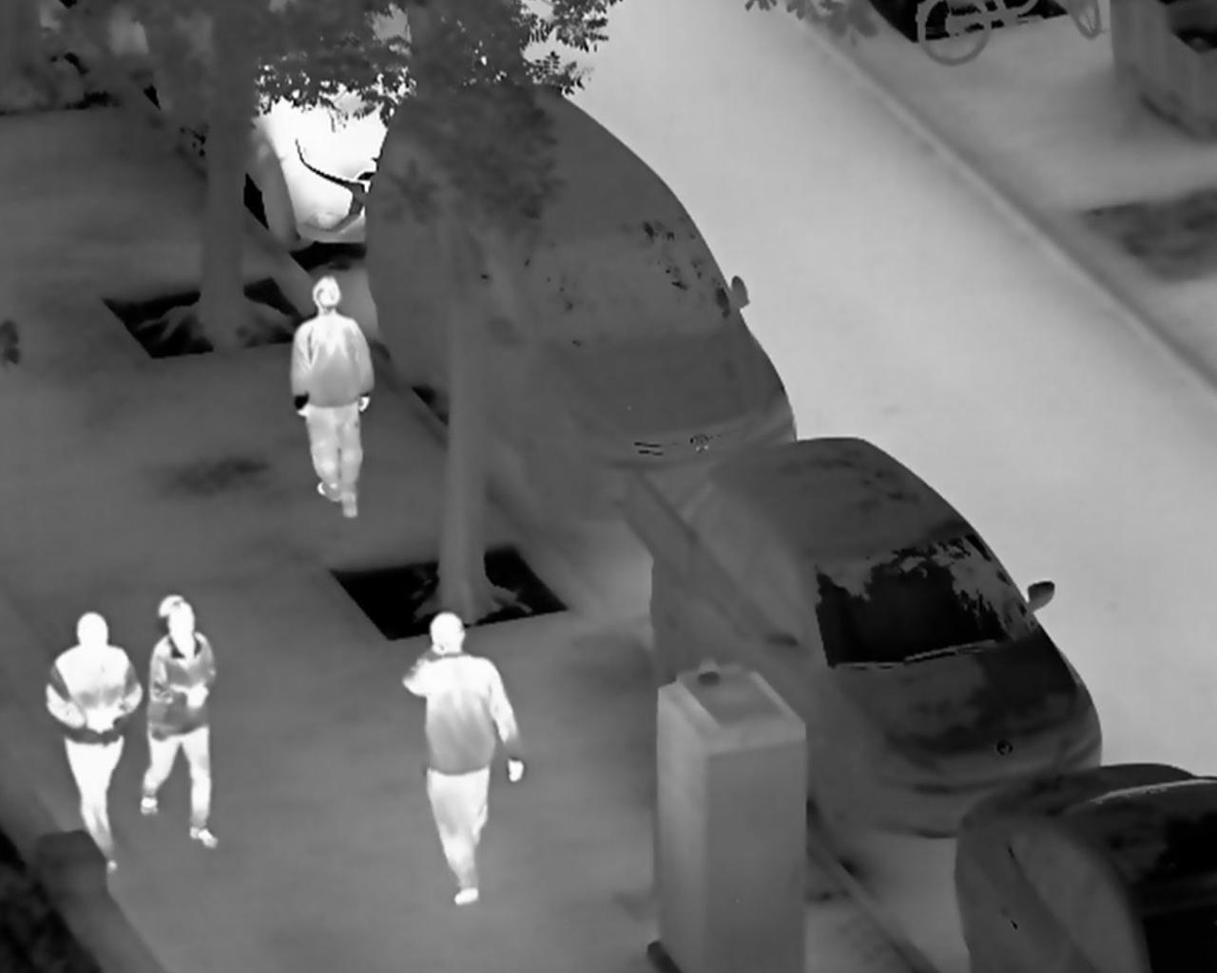person: (397, 606, 524, 906), (44, 610, 147, 868), (290, 272, 377, 521), (145, 595, 222, 850)
